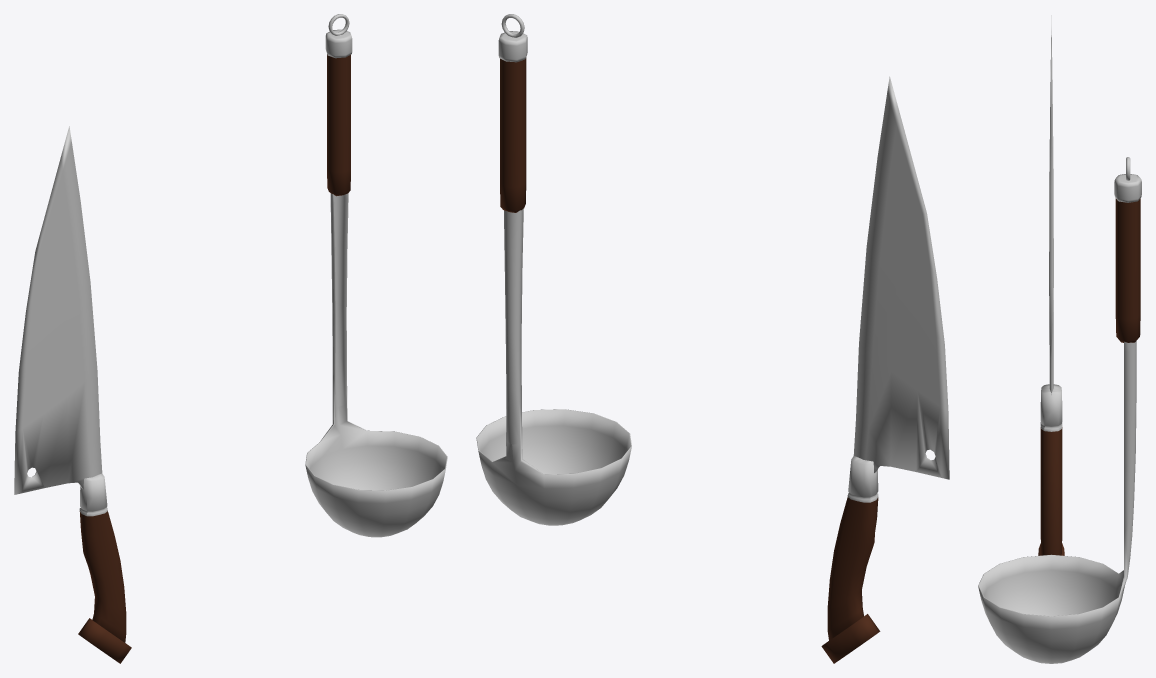
File: 칼국자.fbx
3 views of the same model, side by side, from view 1: azimuth 30°, elevation 25°; view 2: azimuth 150°, elevation 25°; view 3: azimuth 270°, elevation 25° (orthographic). The views are drawn at different scales.
Parts seen in each view (by area): view 1: Cube.002, Cylinder; view 2: Cube.002, Cylinder; view 3: Cylinder, Cube.002.
Boxes of the visible parts, x1,y1,x2,y2 form: Cube.002: (14, 126, 131, 663); Cylinder: (305, 14, 447, 537); Cube.002: (821, 76, 949, 663); Cylinder: (476, 14, 631, 525); Cylinder: (978, 157, 1141, 663); Cube.002: (1038, 15, 1064, 555).
Bounding box in the file's own units: 315 × 396 × 103.
